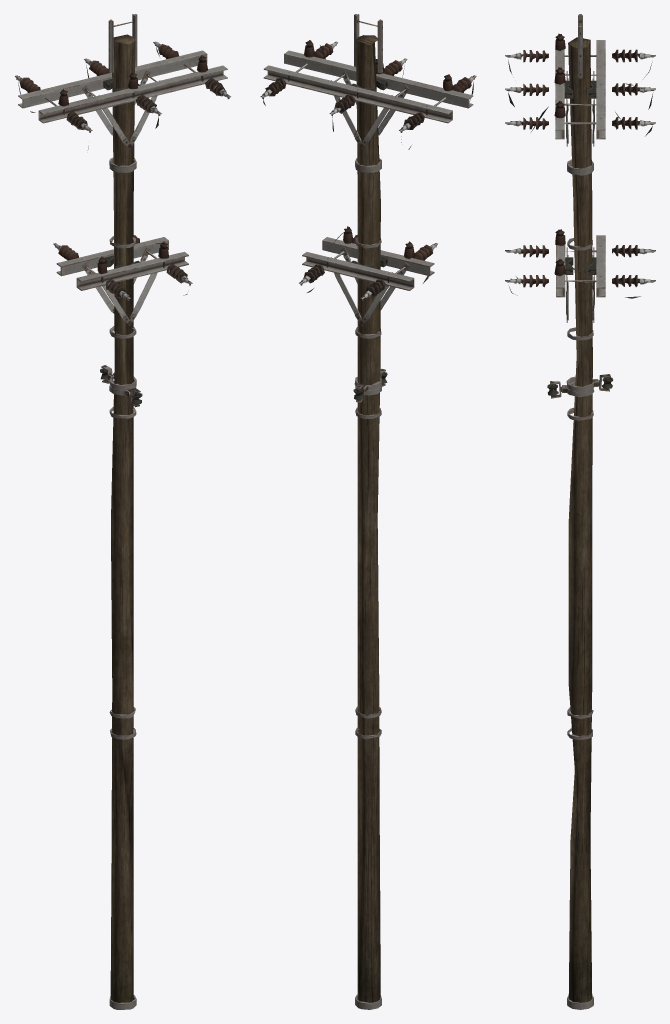
Rendered from modular_electricity_poles-pole.glb.
The picture shows the model from 3 angles, left to right: view 1: azimuth 30°, elevation 25°; view 2: azimuth 150°, elevation 25°; view 3: azimuth 270°, elevation 25°; orthographic projection.
Visible parts, largest first — view 1: preset_02_pole, preset_02_cap; view 2: preset_02_pole, preset_02_cap; view 3: preset_02_pole, preset_02_cap.
Boxes of the visible parts, box(x1,y1,x2,y2) form: preset_02_pole: box(110, 34, 135, 1002); preset_02_cap: box(15, 14, 230, 1009); preset_02_pole: box(356, 35, 380, 1002); preset_02_cap: box(260, 14, 476, 1009); preset_02_pole: box(568, 37, 592, 1002); preset_02_cap: box(505, 14, 655, 1009).
Bounding box in the file's own units: 1.2 × 6.13 × 0.8522.
2 materials, 2 textured.
